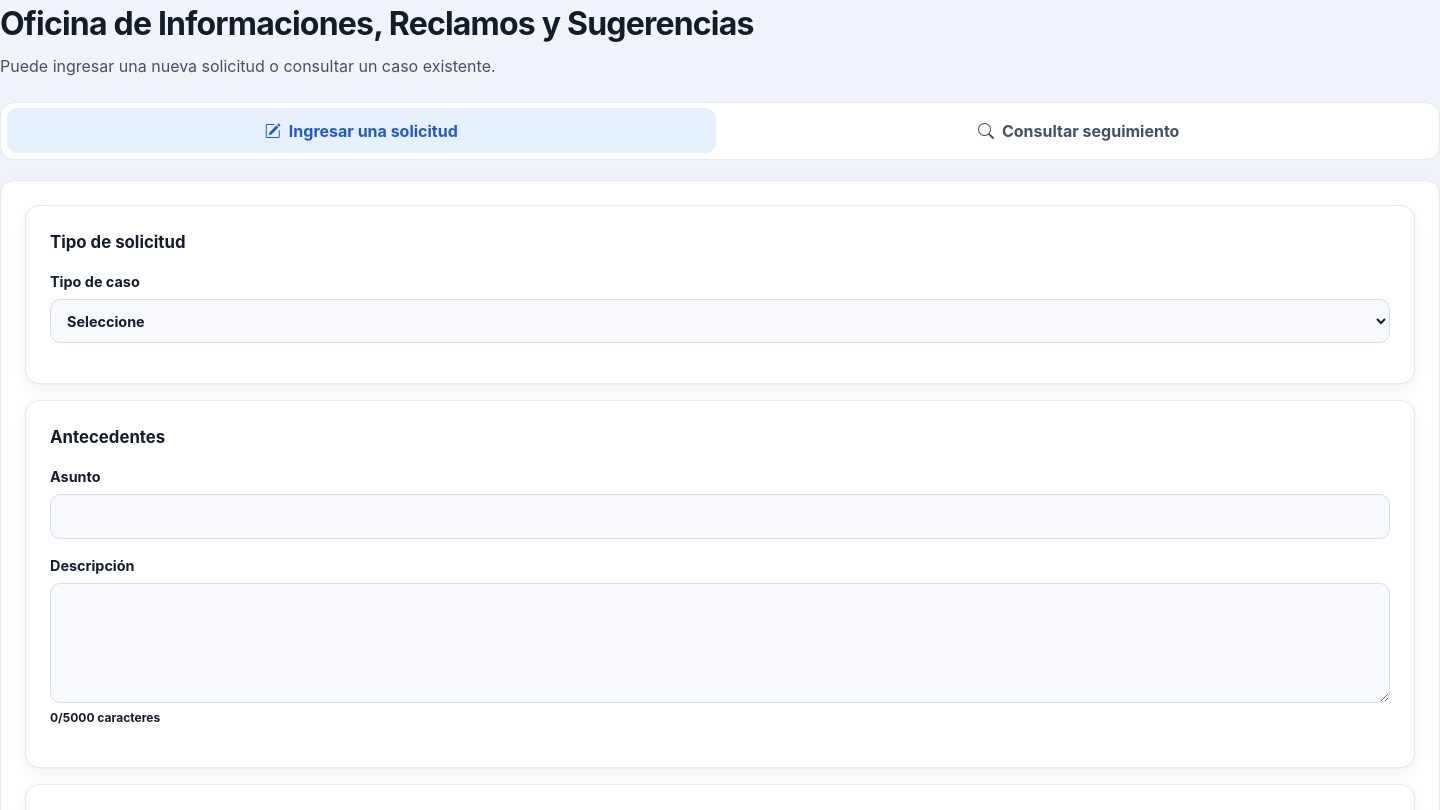
Test: OirsPage - public › previene doble envio mientras se envia
Step 1. Select "Sugerencia" in the dropdown labelled "Tipo de caso" → [720, 321], box top-left (50, 299), bottom-right (1390, 343)
Step 2. Type "Asunto de prueba valido" into the field labelled "Asunto" → [720, 516], box top-left (50, 494), bottom-right (1390, 539)
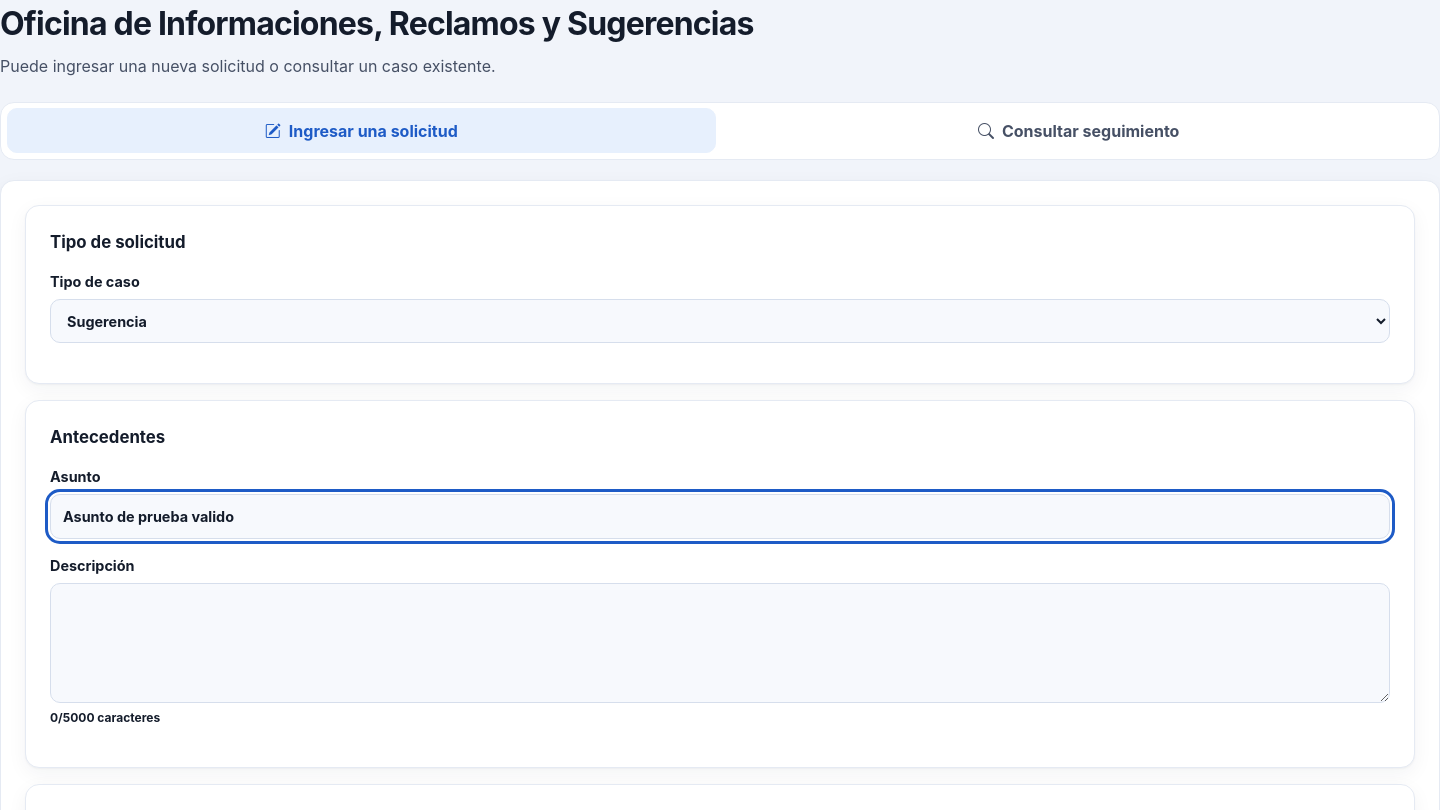
Step 3. Type "Descripcion detallada de mi sugerencia con mas de veinte caracteres" into the text box labelled "Descripción" → [720, 643], box top-left (50, 583), bottom-right (1390, 703)
(page scrolled)
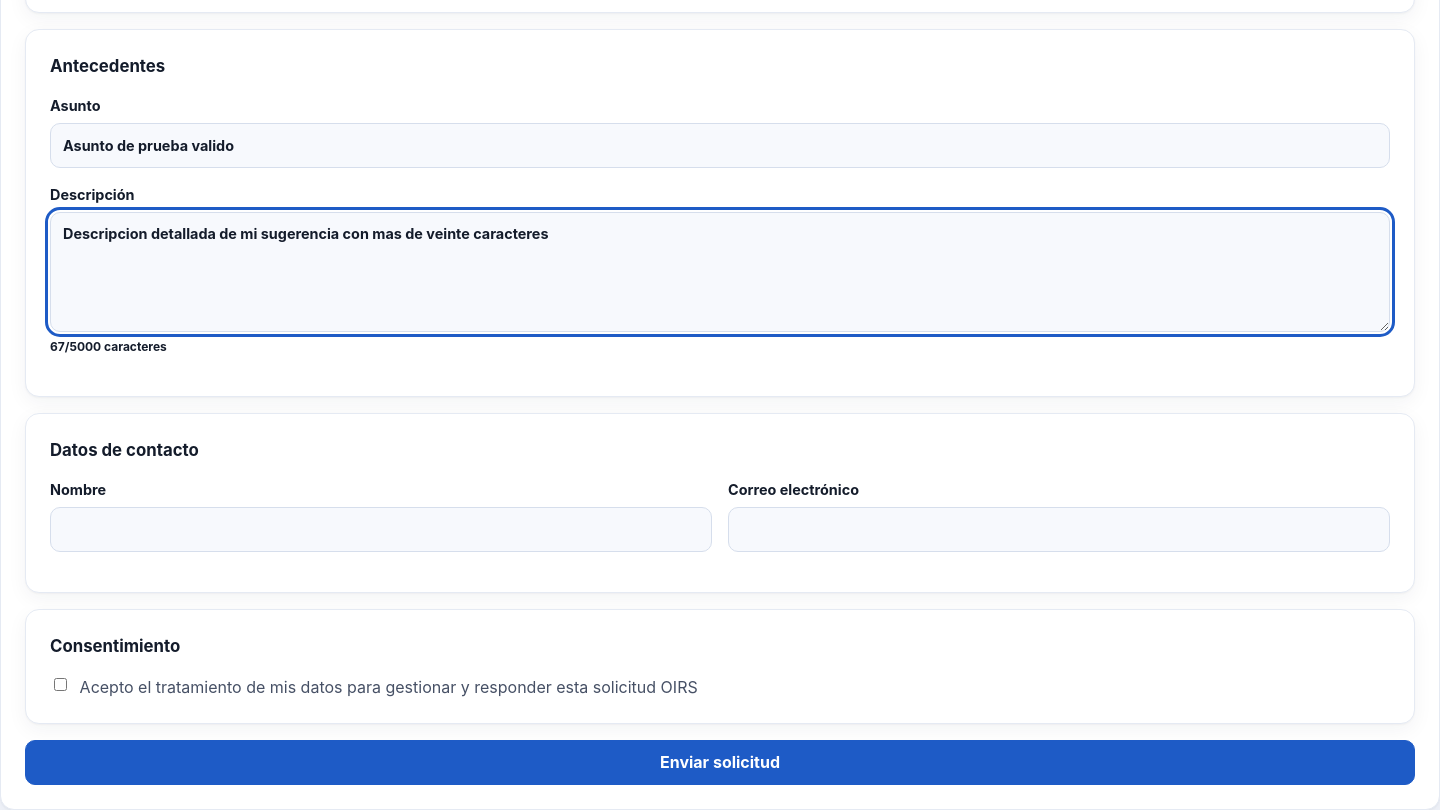
Step 4. Type "Usuario QA" into the field labelled "Nombre" → [381, 530], box top-left (50, 507), bottom-right (712, 552)
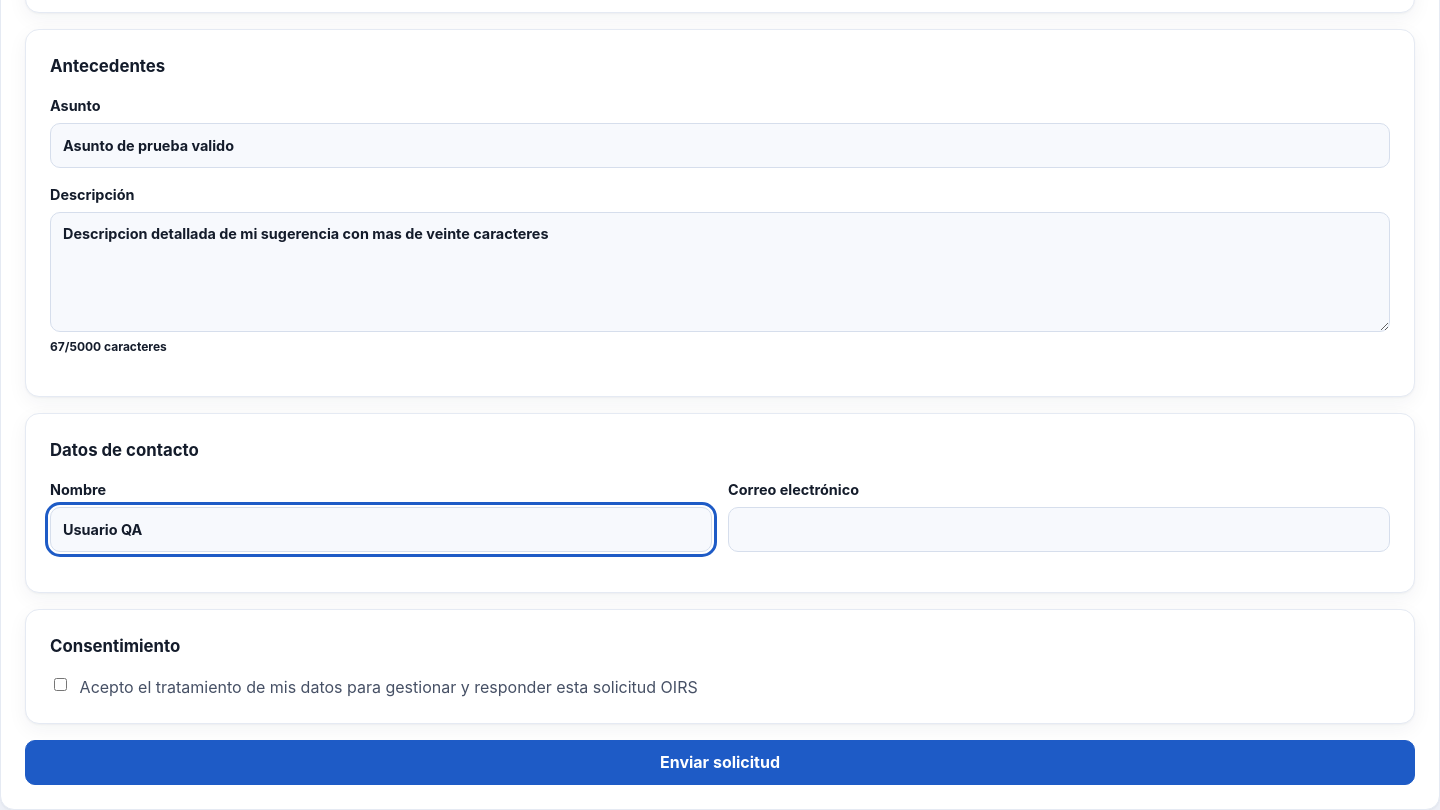
Step 5. Type "qa@example.test" into the field labelled "Correo electrónico" → [1059, 530], box top-left (728, 507), bottom-right (1390, 552)
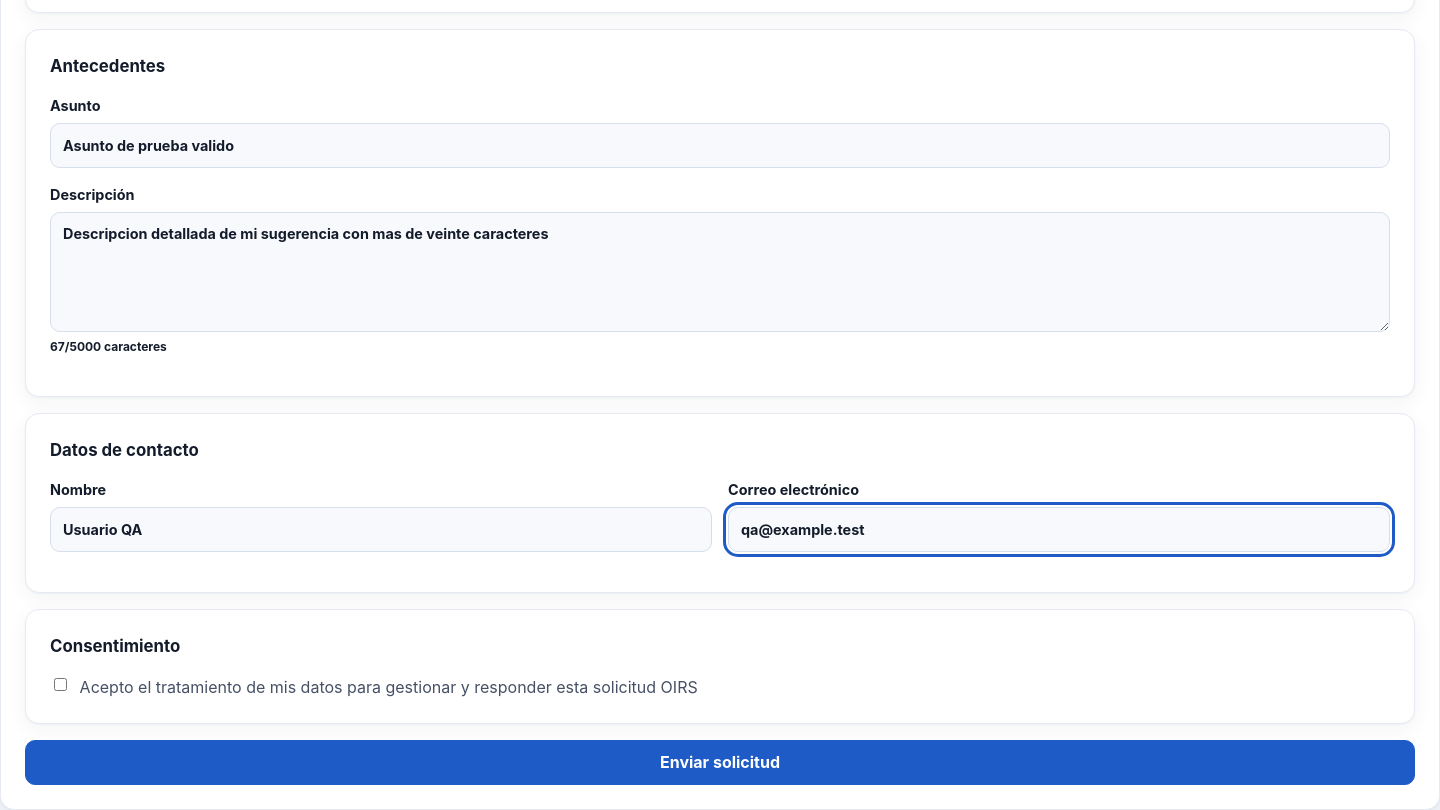
Step 6. Click the checkbox named "Acepto el tratamiento de mis datos para gestionar y responder esta solicitud OIRS" → [60, 684], box top-left (54, 678), bottom-right (67, 691)
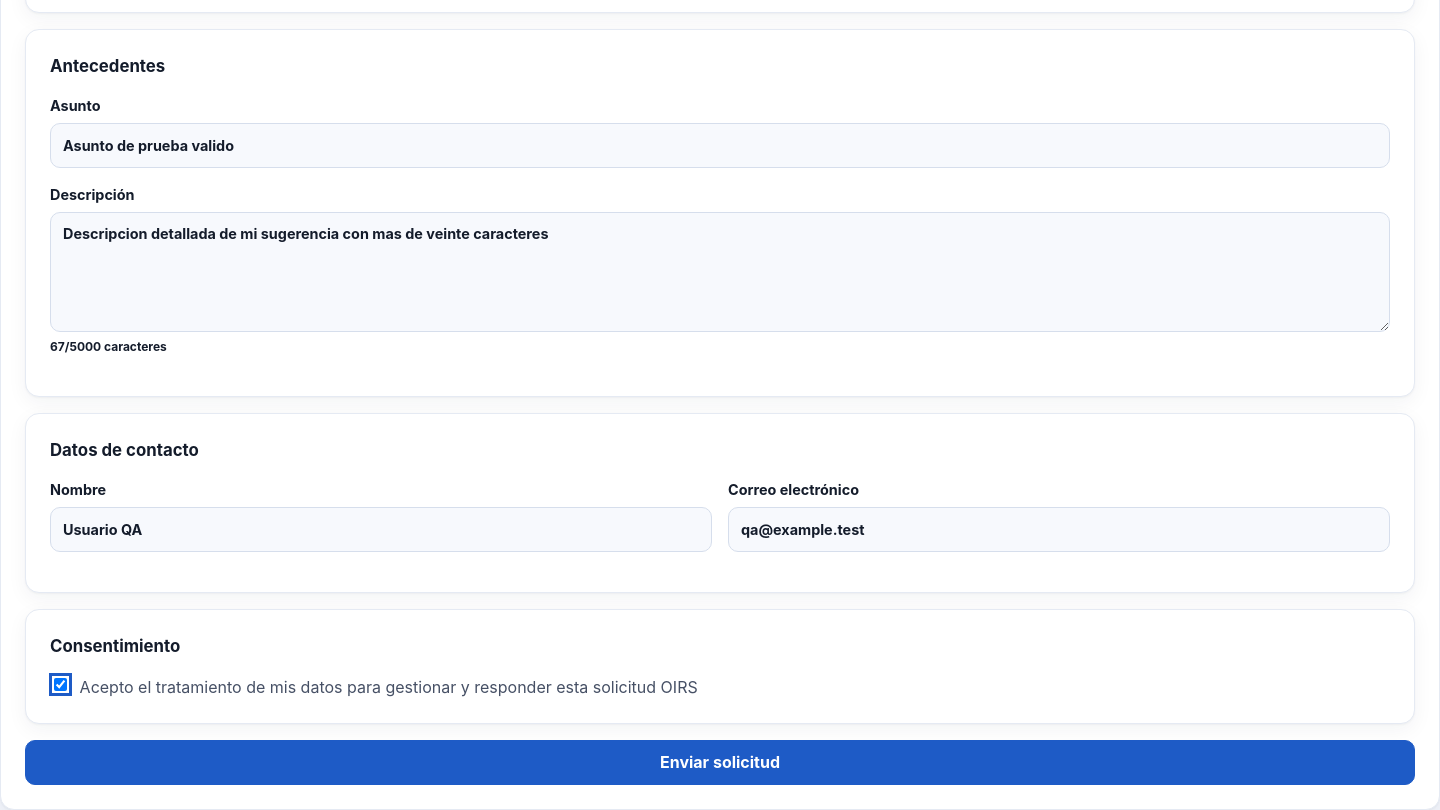
Step 7. Click the button "Enviar solicitud" → [720, 762], box top-left (25, 740), bottom-right (1415, 785)
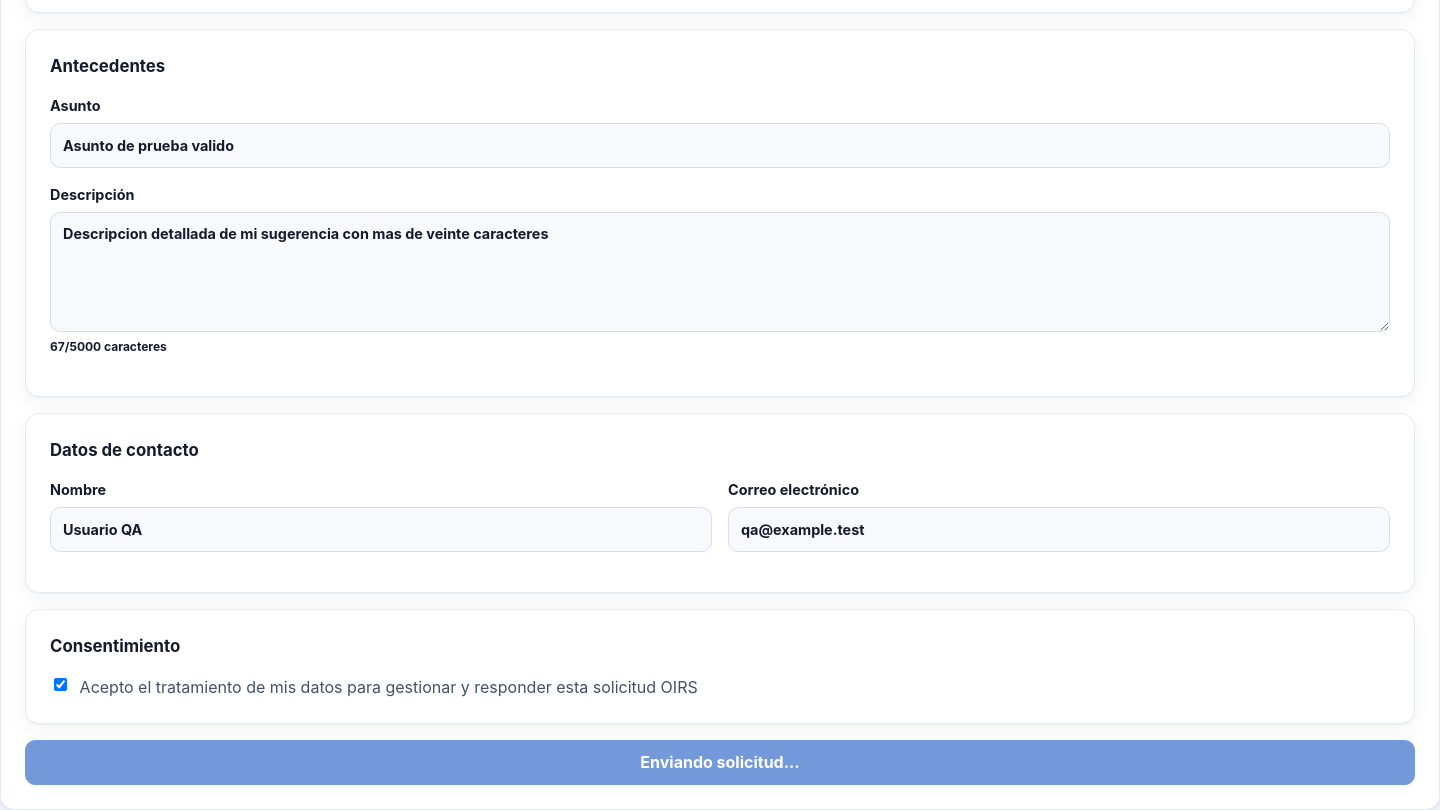
Expected: the button "Enviando solicitud..." is disabled, top-left (25, 740), bottom-right (1415, 785)
